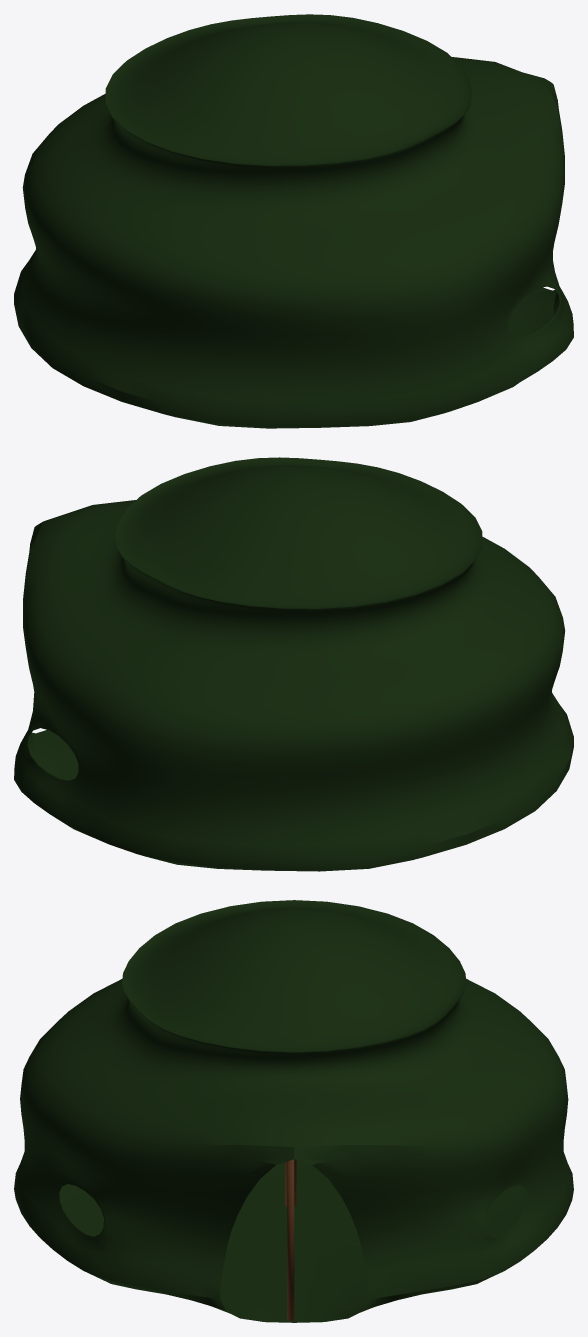
File: BigTent.fbx
3 renders of one model, top to bottom at view 1: azimuth 30°, elevation 25°; view 2: azimuth 150°, elevation 25°; view 3: azimuth 270°, elevation 25°, orthographic. The views are drawn at different scales.
Visible parts, largest first — view 1: BigTent; view 2: BigTent; view 3: BigTent.
Boxes of the visible parts, x1,y1,x2,y2 form: BigTent: (14, 14, 573, 428); BigTent: (14, 457, 573, 871); BigTent: (14, 900, 573, 1322).
Bounding box in the file's own units: 1063 × 603 × 1061.
